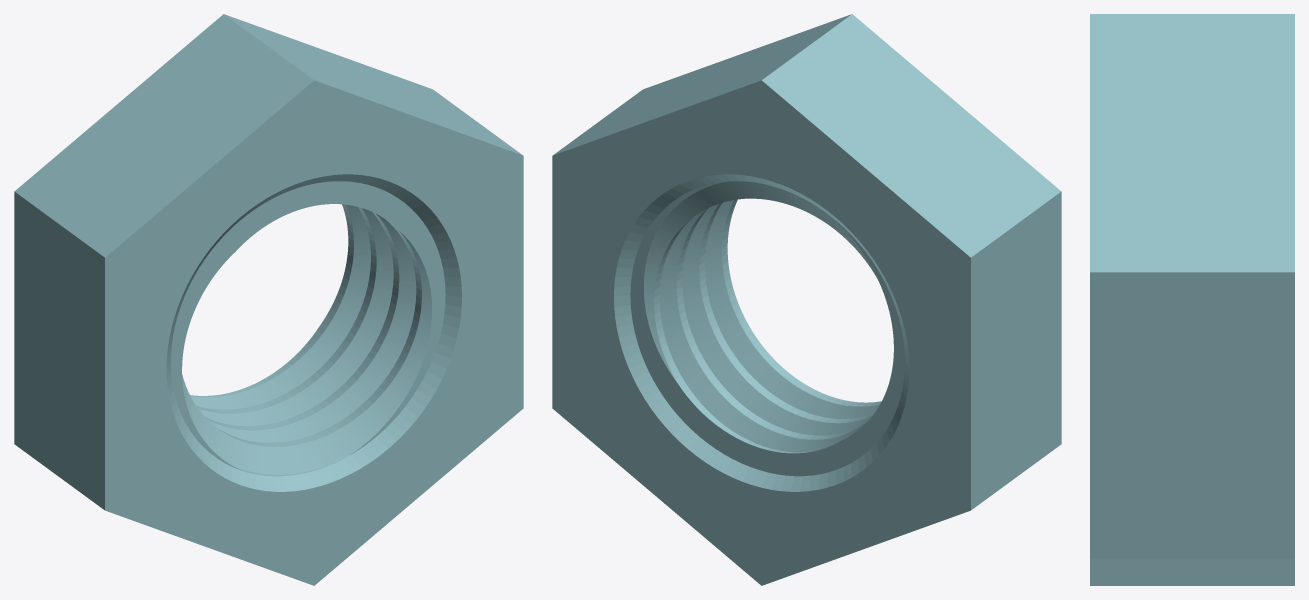
The model's file is assembly.glb.
3 views of the same model, side by side, from view 1: azimuth 30°, elevation 25°; view 2: azimuth 150°, elevation 25°; view 3: azimuth 270°, elevation 25° (orthographic). The views are drawn at different scales.
Parts seen in each view (by area): view 1: nut; view 2: nut; view 3: nut.
Boxes of the visible parts, bbox=[...] form: nut: bbox=[14, 14, 523, 585]; nut: bbox=[552, 14, 1061, 585]; nut: bbox=[1090, 14, 1294, 585].
Size of the model in its own units: 0.016 by 0.0185 by 0.006.
